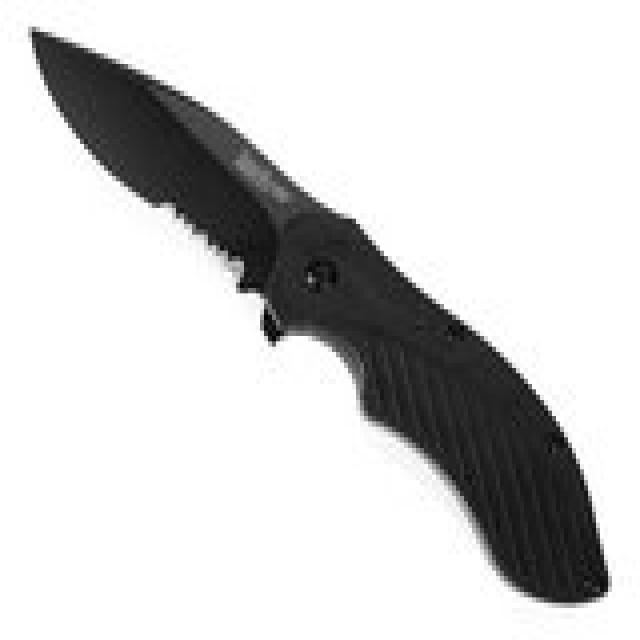Knife: (27, 14, 617, 604)
